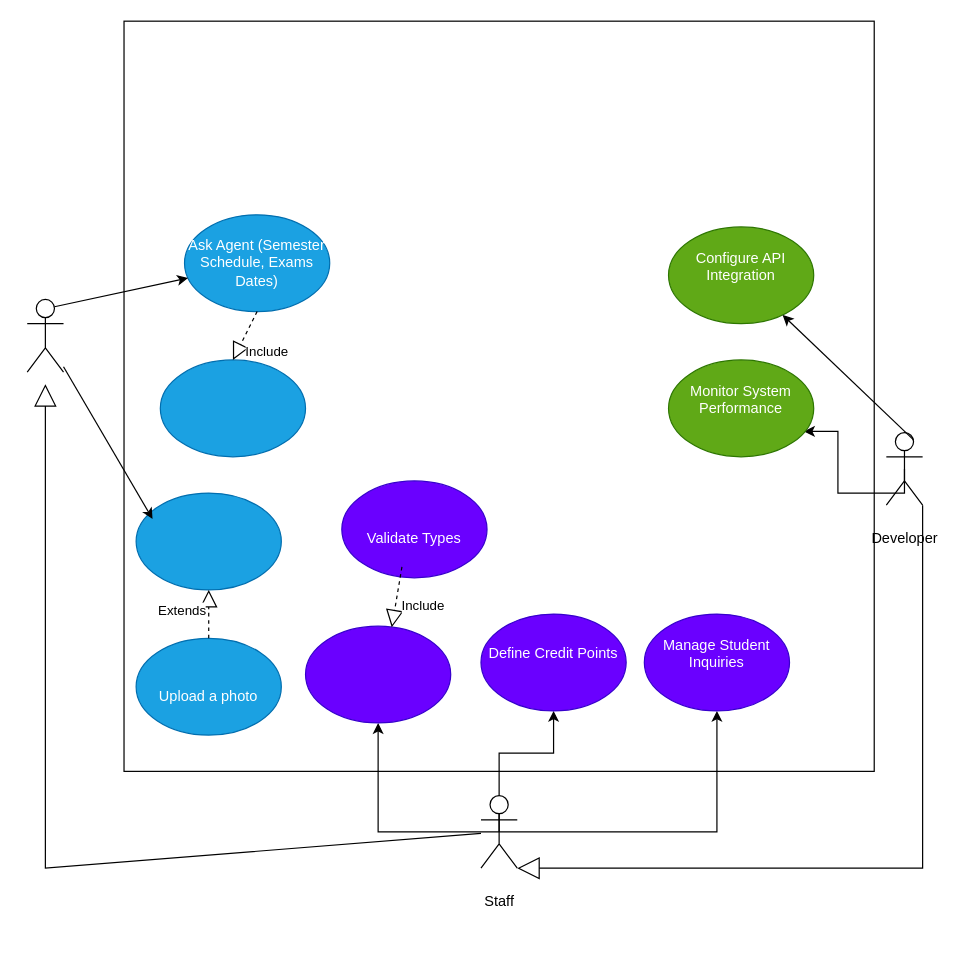
This 966x968 diagram has some shape labels left out. Each missing label, with the box of its shape:
Report Technical Issue: (135, 492, 281, 590)
Student: (26, 298, 64, 372)
Update Academic Data: (304, 625, 451, 723)
Validate Input: (159, 359, 306, 457)
